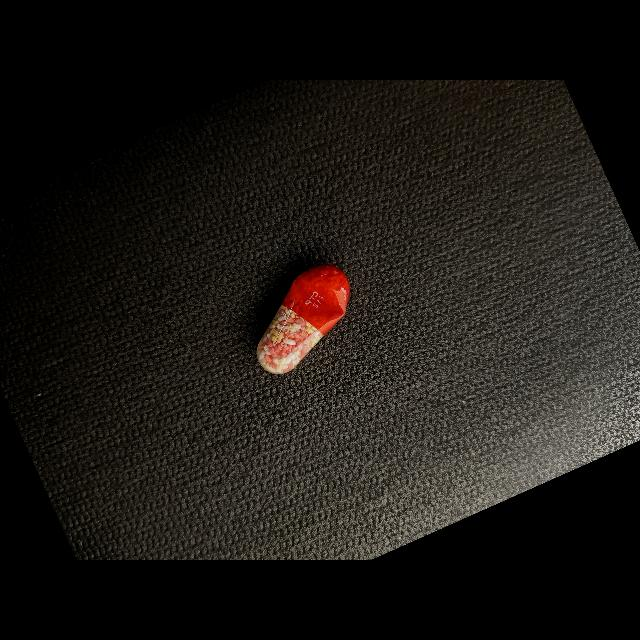Defective Capsule: (257, 265, 350, 374)
